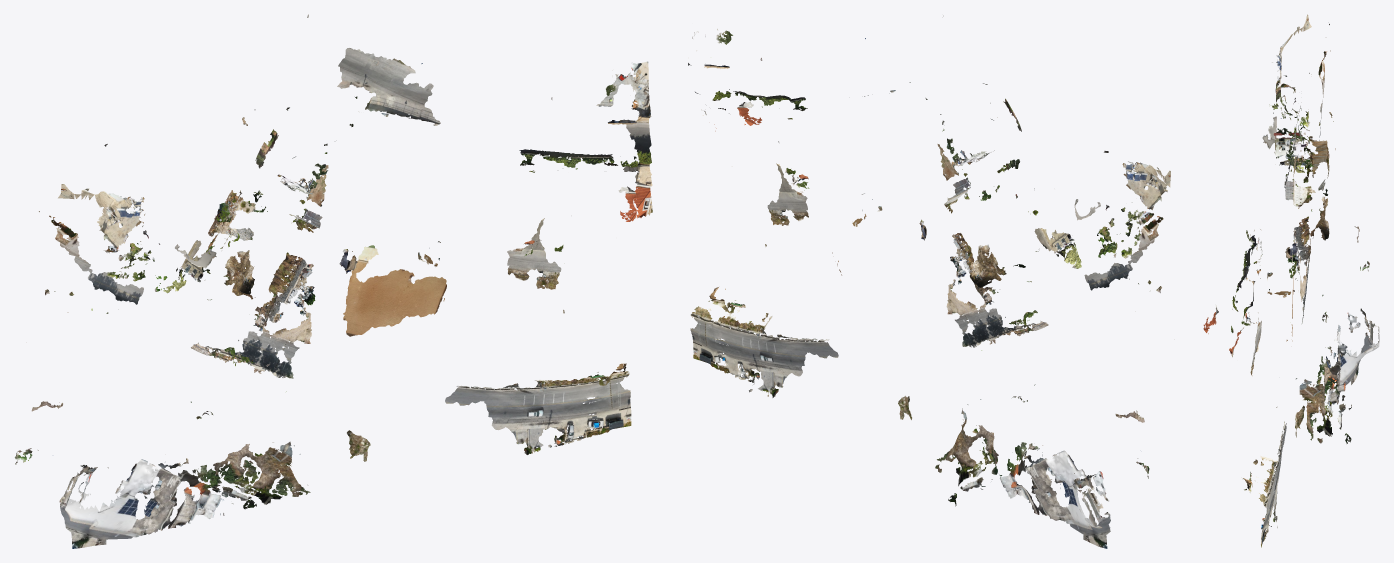
The model's file is tile_1.glb.
The picture shows the model from 3 angles, left to right: view 1: azimuth 30°, elevation 25°; view 2: azimuth 150°, elevation 25°; view 3: azimuth 270°, elevation 25°; orthographic projection. The views are drawn at different scales.
Size of the model in its own units: 177 by 148 by 54.15.
1 material, 1 textured.
